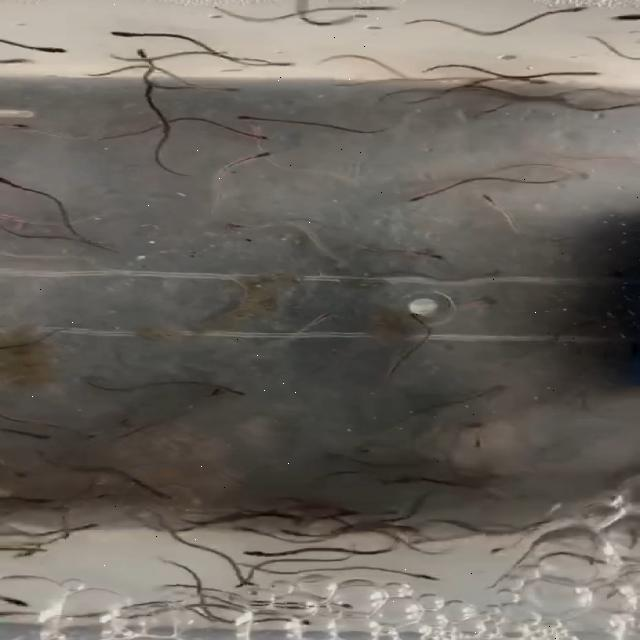active_glass_eel: (210, 105, 268, 122), (324, 12, 378, 28), (217, 378, 250, 401), (208, 79, 255, 95), (392, 191, 444, 205), (0, 115, 48, 130), (15, 492, 51, 512), (230, 574, 264, 594), (18, 423, 52, 443), (471, 542, 519, 556), (282, 610, 318, 628), (226, 522, 264, 539), (0, 173, 40, 189), (139, 483, 179, 499), (0, 596, 53, 608), (267, 56, 305, 72), (278, 518, 309, 537), (360, 0, 402, 14), (72, 522, 108, 538), (552, 6, 588, 22), (332, 594, 367, 610), (64, 429, 104, 443), (234, 548, 268, 564), (307, 310, 341, 326), (560, 64, 604, 76), (463, 431, 492, 449), (242, 144, 274, 160), (465, 195, 501, 209), (514, 69, 544, 85), (202, 384, 226, 404), (95, 28, 135, 40), (412, 248, 442, 264), (121, 48, 160, 60), (398, 312, 431, 326), (594, 12, 640, 22), (38, 40, 65, 56), (0, 56, 34, 68), (407, 572, 443, 583), (220, 218, 242, 234), (455, 0, 482, 12), (570, 167, 596, 179), (250, 131, 276, 142)
